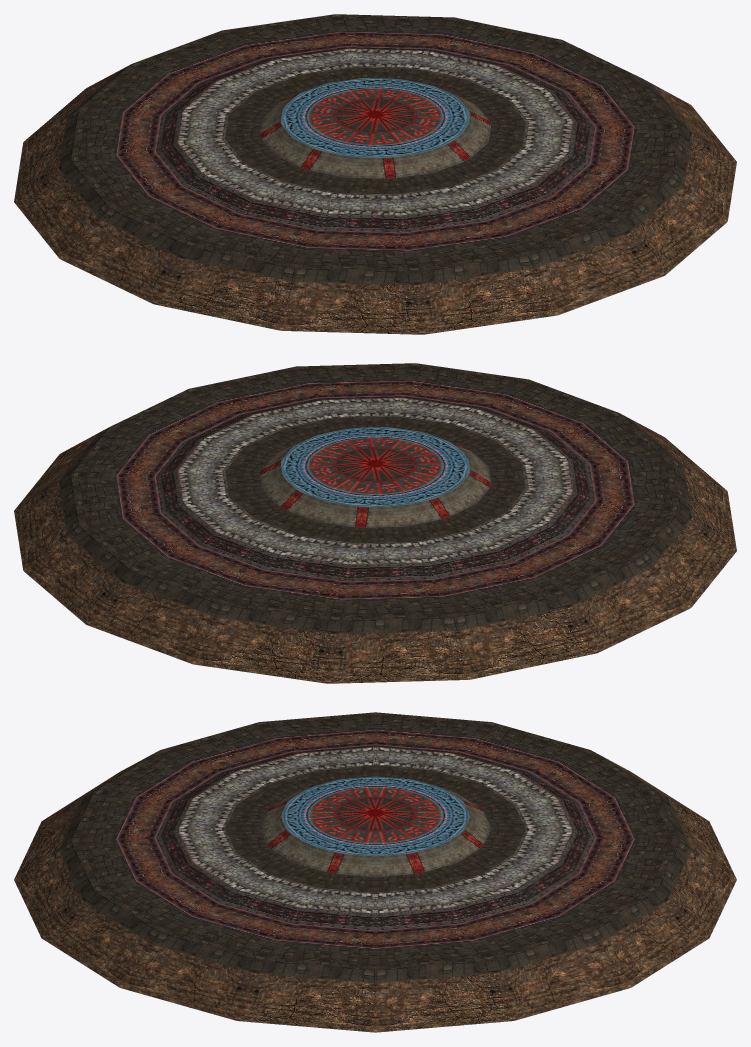
Rendered from arena_07.FBX.
3 views of the same model, one above another, from view 1: azimuth 30°, elevation 25°; view 2: azimuth 150°, elevation 25°; view 3: azimuth 270°, elevation 25° (orthographic).
Visible parts, largest first — view 1: arena_07; view 2: arena_07; view 3: arena_07.
Boxes of the visible parts, x1,y1,x2,y2 form: arena_07: (14, 14, 736, 334); arena_07: (14, 363, 736, 683); arena_07: (14, 712, 736, 1032).
Size of the model in its own units: 5.88 by 0.6028 by 5.88.
